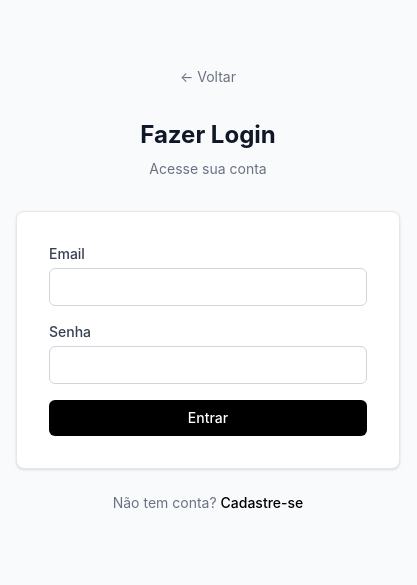
it: Login Page › toggles back to login form
This screenshot has width=417, height=585.
Click the button "Cadastre-se". click: (262, 503)
box: [220,493,303,513]
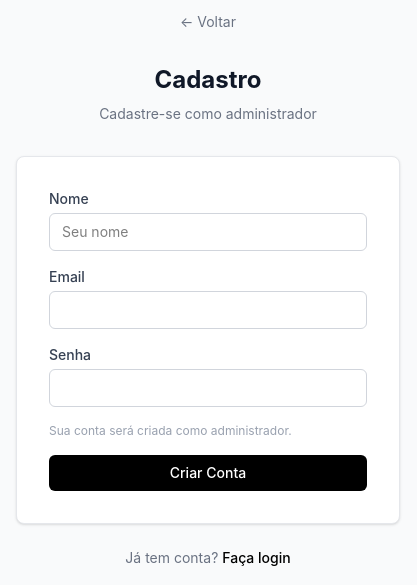
Expected: the button "Criar Conta" is shown, [49,455,367,491]
Click the button "Faça login". click: (256, 558)
box: [222,548,291,568]
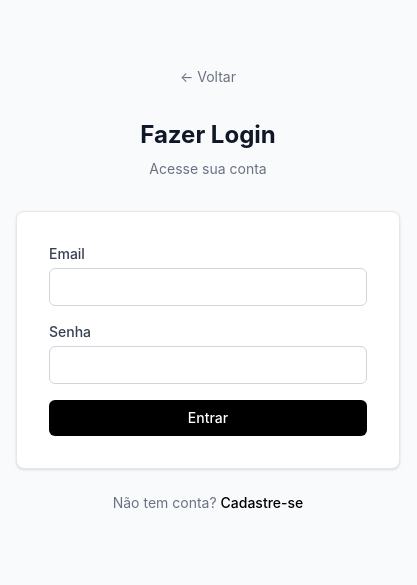
Expected: the button "Entrar" is shown, [49,400,367,436]
